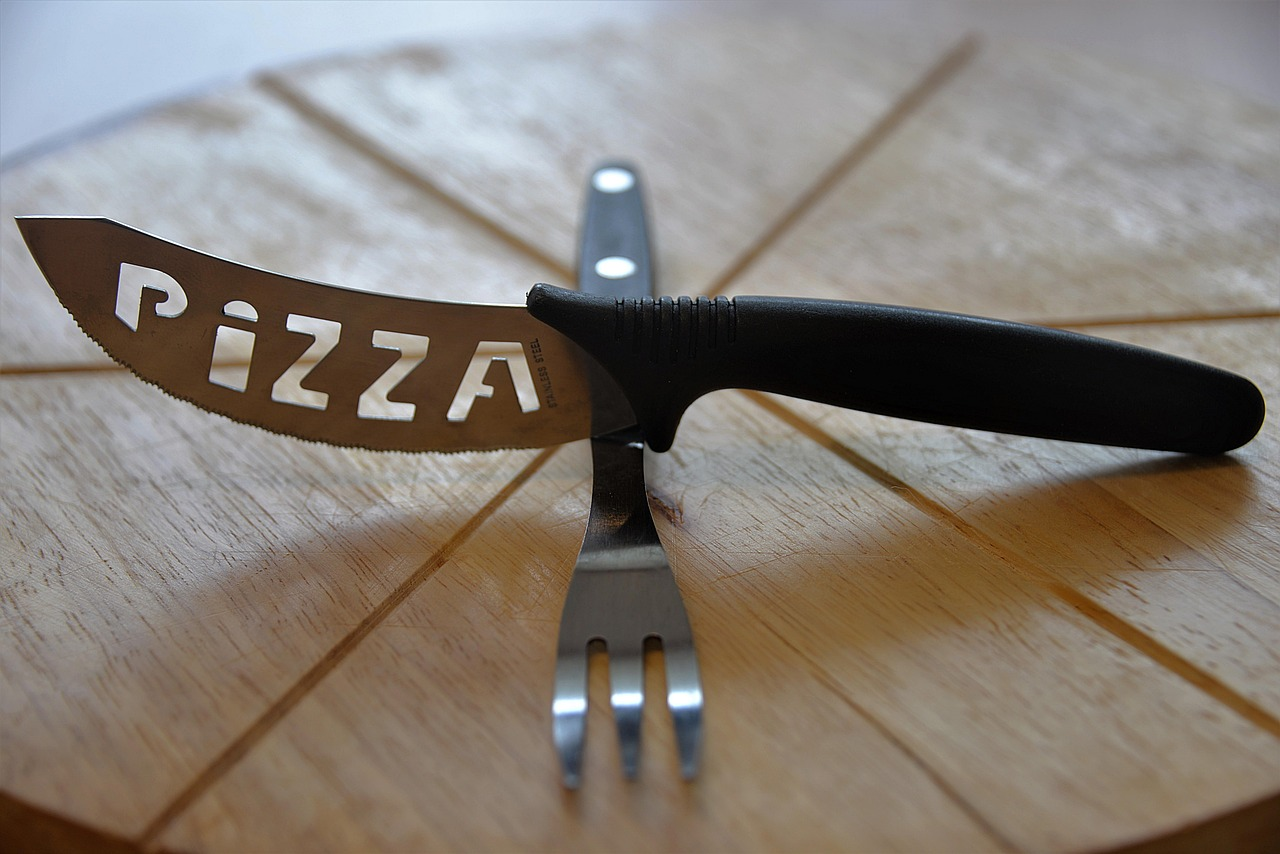knife: (8, 189, 1280, 477)
